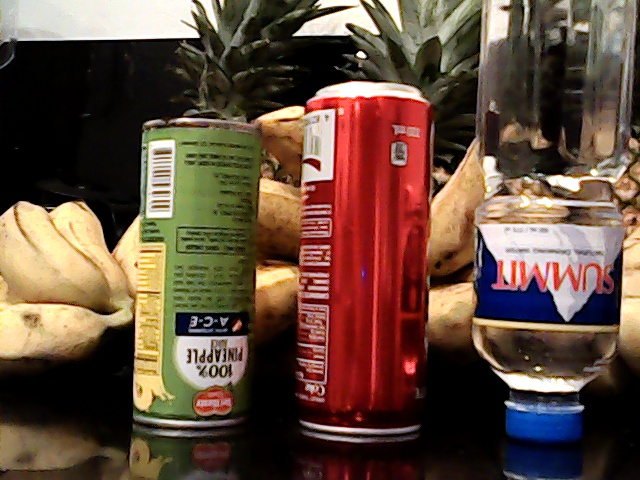Cola: (288, 74, 439, 444)
Pine Juice: (120, 105, 275, 445)
Summit Water: (463, 1, 640, 448)
